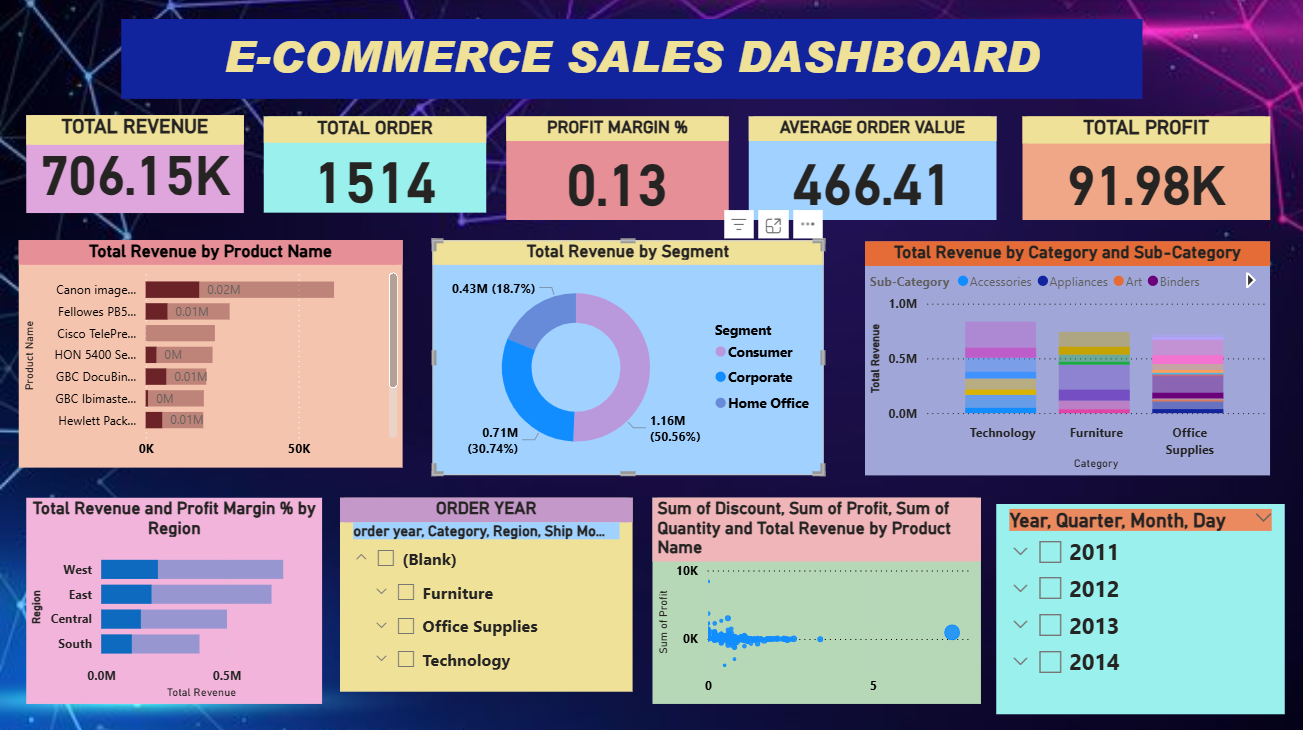

Layout of this report page (visuals, bound fields, positions):
{"tool":"powerbi","page":{"name":"Page 1","canvas":[1280,720],"ordinal":0},"visuals":[{"type":"card","title":"TOTAL REVENUE","fields":{"Values":["superstore.Total Revenue"]},"box":[25.8,114.1,213.5,95.7],"z":0},{"type":"card","title":"TOTAL PROFIT","fields":{"Values":["superstore.Total Profit"]},"box":[1003.7,115.3,242.9,101.8],"z":1000},{"type":"card","title":"TOTAL ORDER","fields":{"Values":["superstore.Total Orders"]},"box":[258.9,115.3,218.4,94.5],"z":2000},{"type":"card","title":"AVERAGE ORDER VALUE","fields":{"Values":["superstore.Average Order Value AOV"]},"box":[735,115.3,242.9,101.8],"z":3000},{"type":"card","title":"PROFIT MARGIN %","fields":{"Values":["superstore.Profit Margin %"]},"box":[496.9,115.3,218.4,101.8],"z":4000},{"type":"barChart","fields":{"Category":["superstore.Product Name"],"Y":["superstore.Total Revenue"]},"box":[18.4,236.8,376.7,223.3],"z":5000},{"type":"columnChart","fields":{"Category":["superstore.Category"],"Y":["superstore.Total Revenue"],"Series":["superstore.Sub-Category"]},"box":[849.1,238,397.5,229.4],"z":6000},{"type":"clusteredBarChart","fields":{"Category":["superstore.Region"],"Y":["superstore.Total Revenue"]},"box":[25.8,489.6,290.8,202.5],"z":7000},{"type":"donutChart","fields":{"Category":["superstore.Segment"],"Y":["superstore.Total Revenue"]},"box":[424.5,236.8,384.1,230.7],"z":8000},{"type":"slicer","title":"ORDER YEAR","fields":{"Values":["superstore.order year","superstore.Category","superstore.Region","superstore.Ship Mode","superstore.Segment"]},"box":[333.7,489.6,287.1,190.2],"z":10000},{"type":"slicer","fields":{"Values":["superstore.Order Date.Variation.Date Hierarchy.Year","superstore.Order Date.Variation.Date Hierarchy.Quarter","superstore.Order Date.Variation.Date Hierarchy.Month","superstore.Order Date.Variation.Date Hierarchy.Day"]},"box":[977.9,495.7,283.4,206.1],"z":11000},{"type":"textbox","box":[119,19.6,1002.5,78.5],"z":12000},{"type":"scatterChart","fields":{"X":["Sum(superstore.Discount)"],"Y":["Sum(superstore.Profit)"],"Category":["superstore.Product Name"],"Size":["Sum(superstore.Quantity)"]},"box":[640.5,489.6,322.7,202.5],"z":12001}]}

Visuals, with their boxes in screenshot pixels (x1, y1, x2, y2), scaled from the page's 1280x720 canvas onto the 1303x730 screenshot:
"TOTAL REVENUE" card: (left=26, top=116, right=244, bottom=213)
"TOTAL PROFIT" card: (left=1022, top=117, right=1269, bottom=220)
"TOTAL ORDER" card: (left=264, top=117, right=486, bottom=213)
"AVERAGE ORDER VALUE" card: (left=748, top=117, right=995, bottom=220)
"PROFIT MARGIN %" card: (left=506, top=117, right=728, bottom=220)
barChart - superstore.Product Name x superstore.Total Revenue: (left=19, top=240, right=402, bottom=466)
columnChart - superstore.Category x superstore.Total Revenue: (left=864, top=241, right=1269, bottom=474)
clusteredBarChart - superstore.Region x superstore.Total Revenue: (left=26, top=496, right=322, bottom=702)
donutChart - superstore.Segment x superstore.Total Revenue: (left=432, top=240, right=823, bottom=474)
"ORDER YEAR" slicer: (left=340, top=496, right=632, bottom=689)
slicer - superstore.Order Date.Variation.Date Hierarchy.Year x superstore.Order Date.Variation.Date Hierarchy.Quarter: (left=995, top=503, right=1284, bottom=712)
textbox: (left=121, top=20, right=1142, bottom=99)
scatterChart - Sum(superstore.Discount) x Sum(superstore.Profit): (left=652, top=496, right=981, bottom=702)
